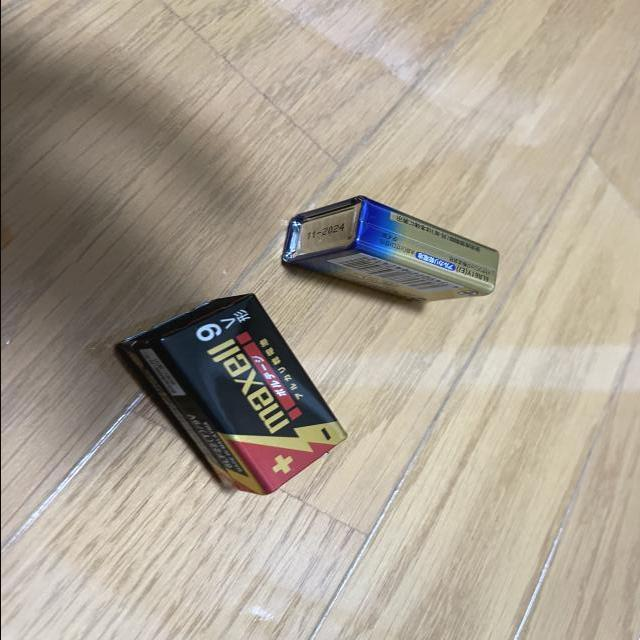9V: (111, 292, 348, 496), (280, 194, 500, 305)
